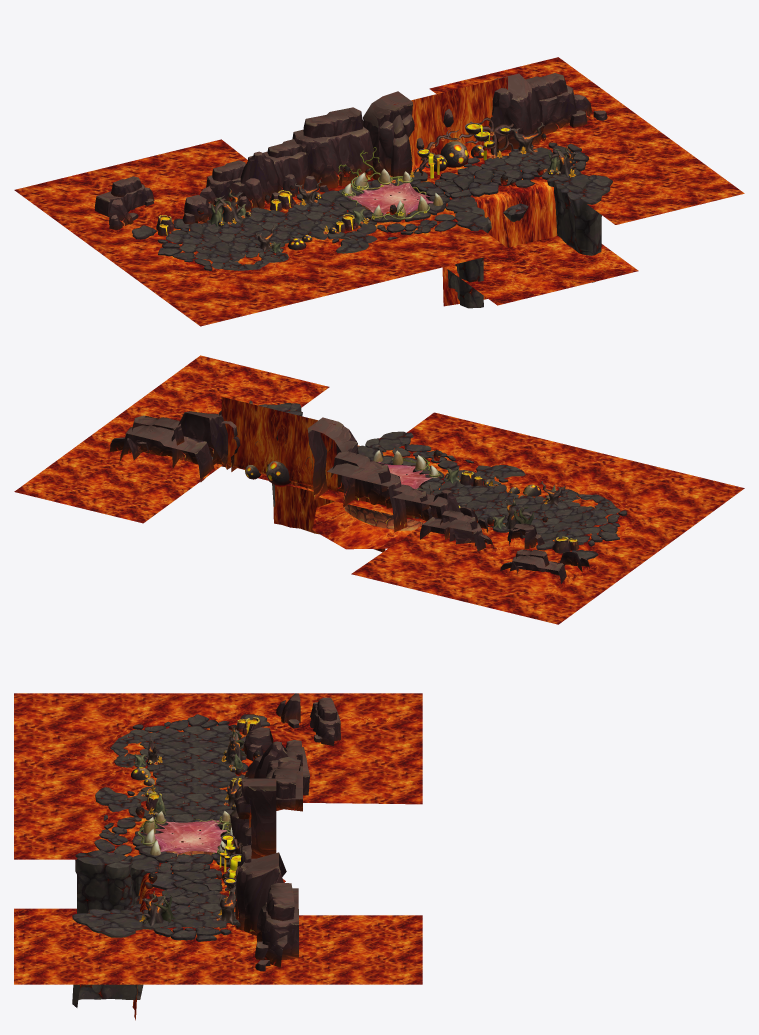
File: 17_03_Dao_Truong_He_Hoa.glb
The picture shows the model from 3 angles, top to bottom: view 1: azimuth 30°, elevation 25°; view 2: azimuth 150°, elevation 25°; view 3: azimuth 270°, elevation 25°; orthographic projection. The views are drawn at different scales.
Parts seen in each view (by area): view 1: 17_03_Dao_Truong_He_Hoa; view 2: 17_03_Dao_Truong_He_Hoa; view 3: 17_03_Dao_Truong_He_Hoa.
Part boxes in pixels (x1=…): 17_03_Dao_Truong_He_Hoa: x1=14, y1=57, x2=744, y2=326; 17_03_Dao_Truong_He_Hoa: x1=14, y1=355, x2=744, y2=624; 17_03_Dao_Truong_He_Hoa: x1=14, y1=693, x2=422, y2=1020.
Bounding box in the file's own units: 179 × 52.08 × 190.
Materials: 12 (11 with a texture image).
